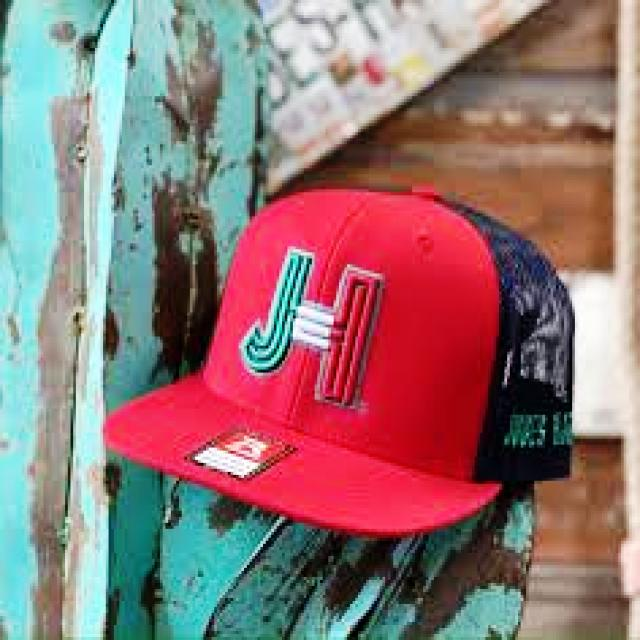TOPI: (92, 174, 578, 541)
